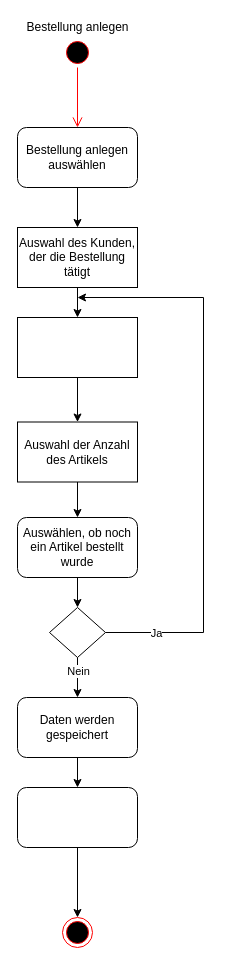
Some shapes in this 229 by 965 pixel diagram are drawn without their labels. The box of each missing label's shape, as (x1, y1, x2, y2) in pixels:
Auswahl des Artikel, welcher bestellt wurde: (16, 316, 138, 378)
Zusammenfassung der Bestellung wird angezeigt: (16, 786, 138, 848)
